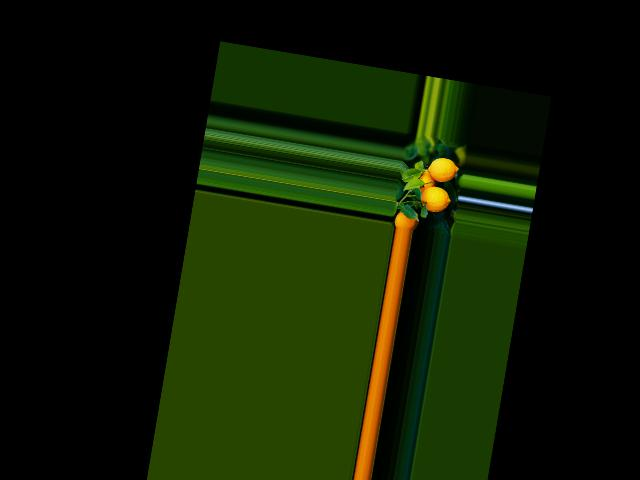lemon: (425, 155, 459, 183)
